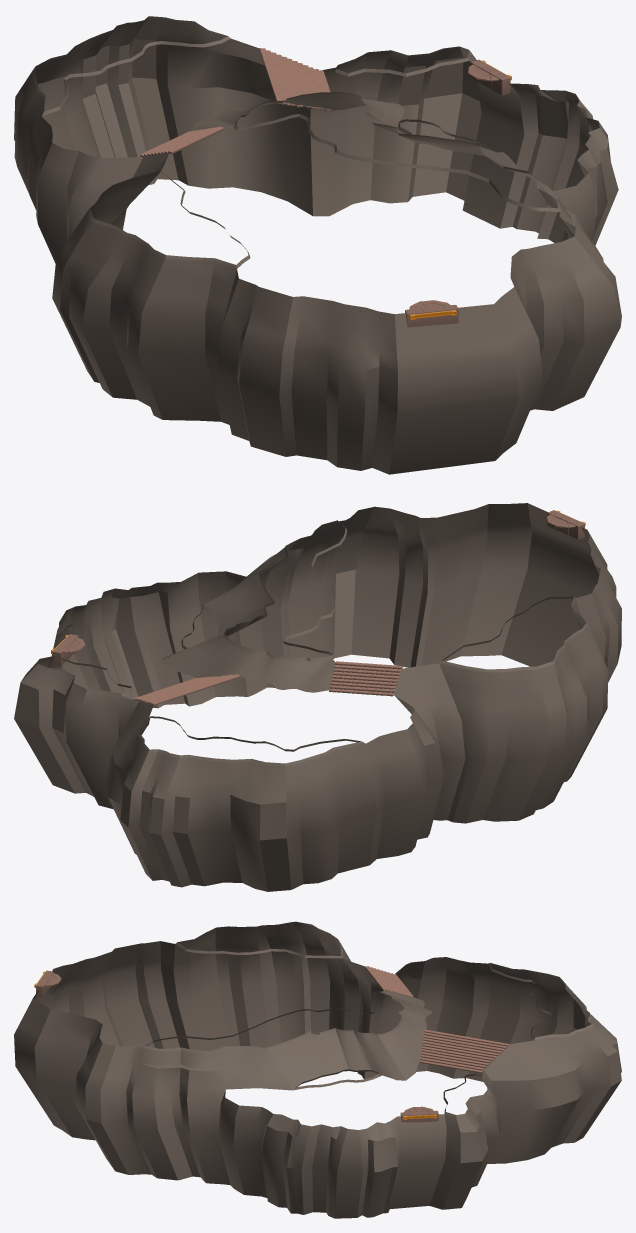
The model's file is islandC.001.fbx.
3 views of the same model, one above another, from view 1: azimuth 30°, elevation 25°; view 2: azimuth 150°, elevation 25°; view 3: azimuth 270°, elevation 25° (orthographic). The views are drawn at different scales.
Parts seen in each view (by area): view 1: Plane.007, Cube.075, Conector puente.004, Conector puente, Cube.066; view 2: Plane.007, Cube.066, Cube.075, Conector puente.004, Conector puente; view 3: Plane.007, Cube.075, Cube.066, Conector puente, Conector puente.004.
Part boxes in pixels (x1,y1,x2,y2): Plane.007: [14, 16, 621, 474]; Cube.075: [259, 48, 336, 111]; Conector puente.004: [405, 300, 458, 327]; Conector puente: [468, 59, 511, 95]; Cube.066: [140, 126, 224, 157]; Plane.007: [14, 503, 621, 891]; Cube.066: [329, 661, 402, 696]; Cube.075: [133, 674, 240, 705]; Conector puente.004: [546, 510, 585, 539]; Conector puente: [51, 634, 85, 666]; Plane.007: [14, 921, 621, 1218]; Cube.075: [420, 1029, 510, 1073]; Cube.066: [365, 966, 413, 996]; Conector puente: [400, 1106, 438, 1122]; Conector puente.004: [34, 970, 61, 997].
Size of the model in its own units: 2750 by 830 by 3633.
